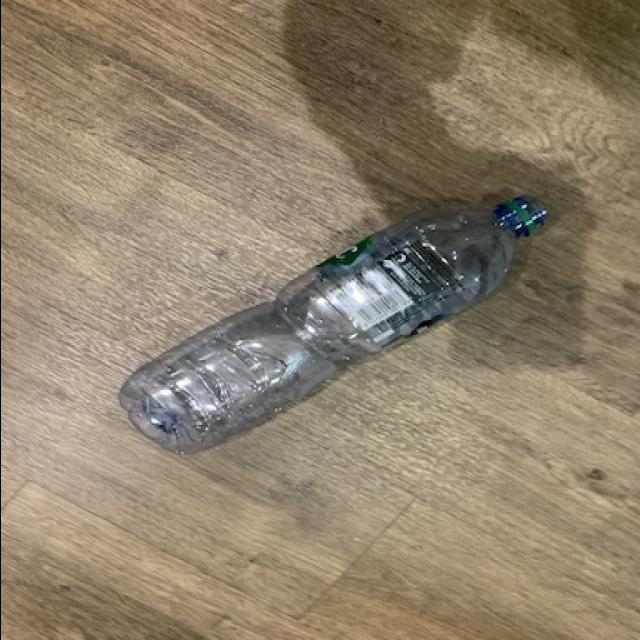PET: (116, 193, 546, 460)
